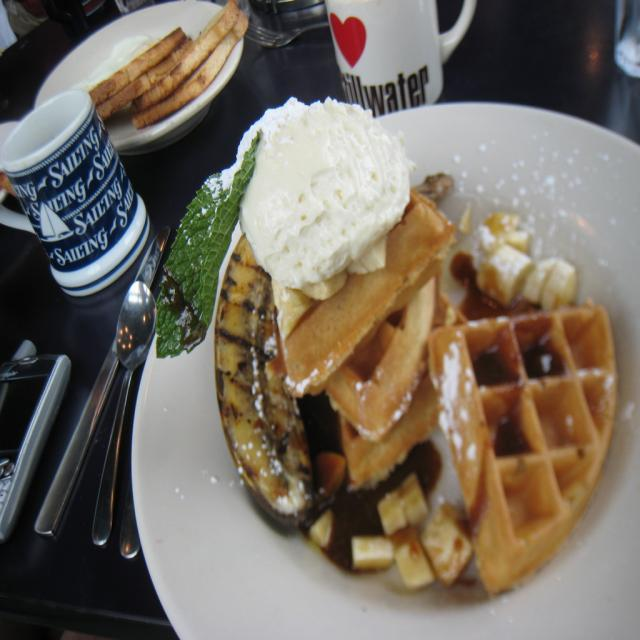Waffle: (428, 306, 602, 596), (270, 184, 458, 398), (336, 288, 470, 496), (327, 273, 440, 444)
